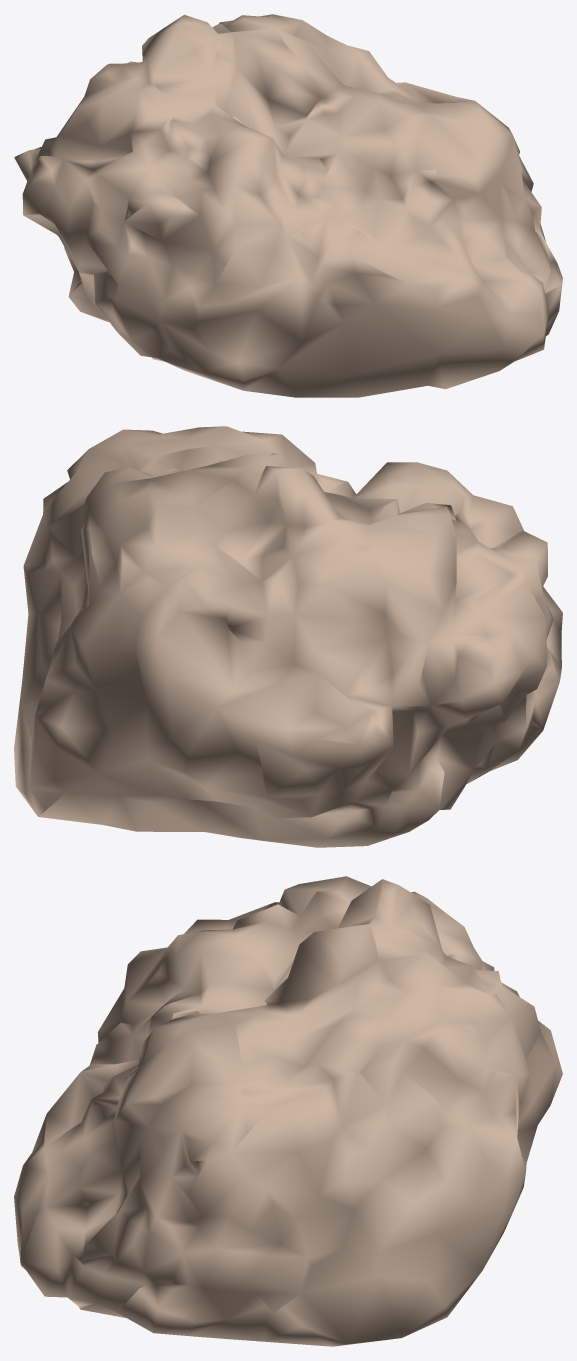
Rendered from rk_scree_3.glb.
The picture shows the model from 3 angles, top to bottom: view 1: azimuth 30°, elevation 25°; view 2: azimuth 150°, elevation 25°; view 3: azimuth 270°, elevation 25°; orthographic projection. The views are drawn at different scales.
Visible parts, largest first — view 1: namaqualand_rocks_02_a; view 2: namaqualand_rocks_02_a; view 3: namaqualand_rocks_02_a.
Part boxes in pixels (left/top/right/bottom): namaqualand_rocks_02_a: left=14, top=14, right=562, bottom=397; namaqualand_rocks_02_a: left=14, top=426, right=562, bottom=847; namaqualand_rocks_02_a: left=14, top=876, right=562, bottom=1346.
Bounding box in the file's own units: 1 × 0.6786 × 0.9656.
